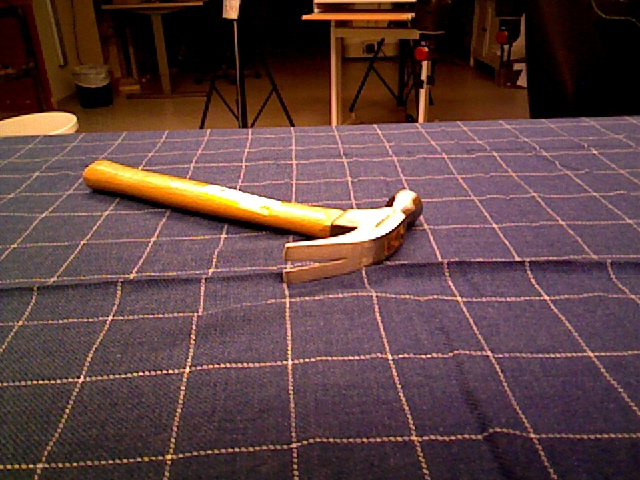hammer1: (82, 158, 424, 286)
